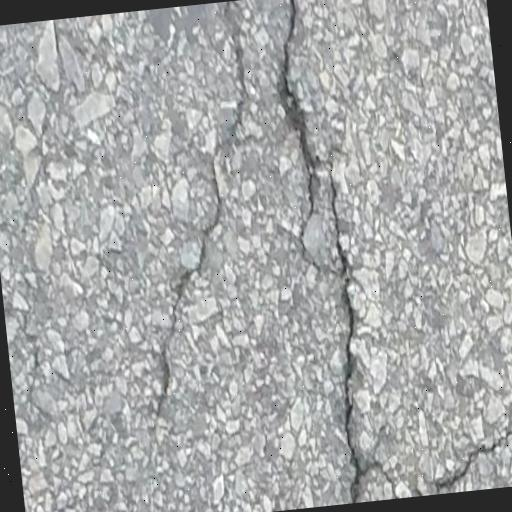spalling: (268, 0, 371, 499), (154, 2, 249, 384)
